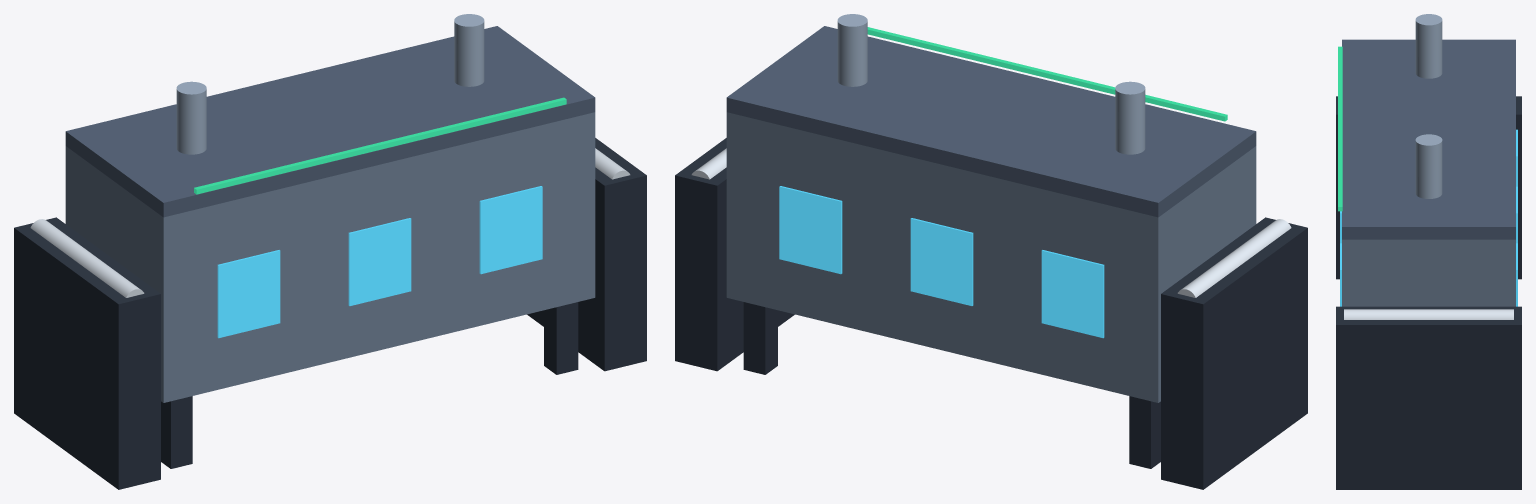
File: mdo.glb
3 renders of one model, left to right at view 1: azimuth 30°, elevation 25°; view 2: azimuth 150°, elevation 25°; view 3: azimuth 270°, elevation 25°, orthographic. The views are drawn at different scales.
Size of the model in its own units: 233 by 140 by 79.9.
